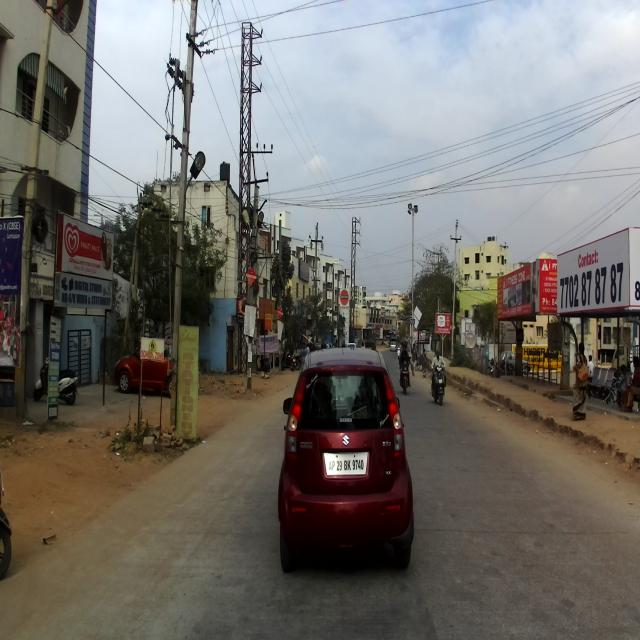car ahead at: (276, 352, 413, 578)
electric pole ahead at: (162, 0, 207, 457)
